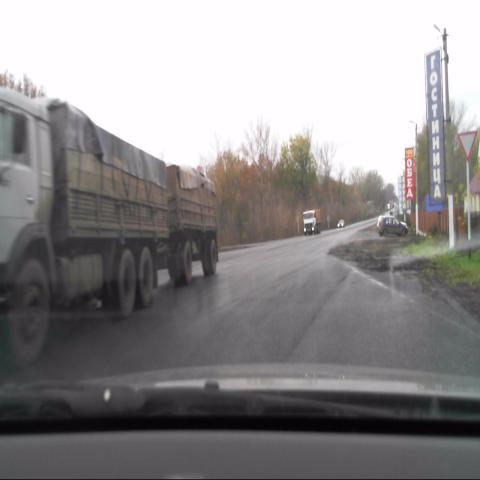2_4: (456, 129, 479, 163)
